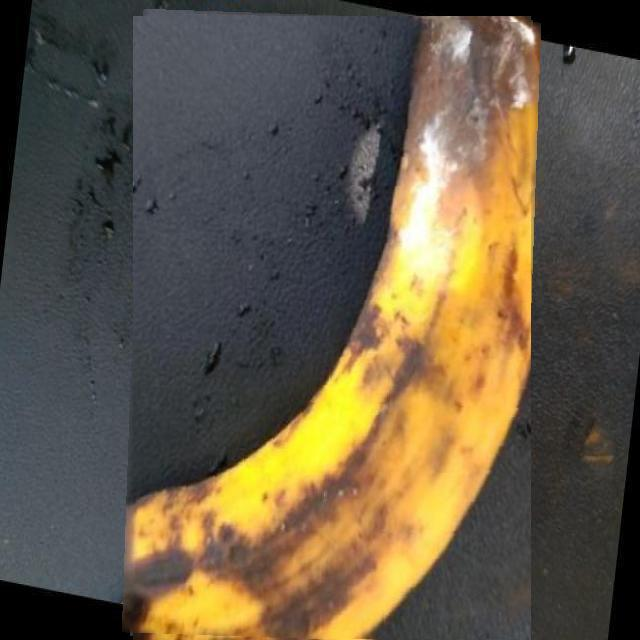Podre: (127, 12, 536, 640)
